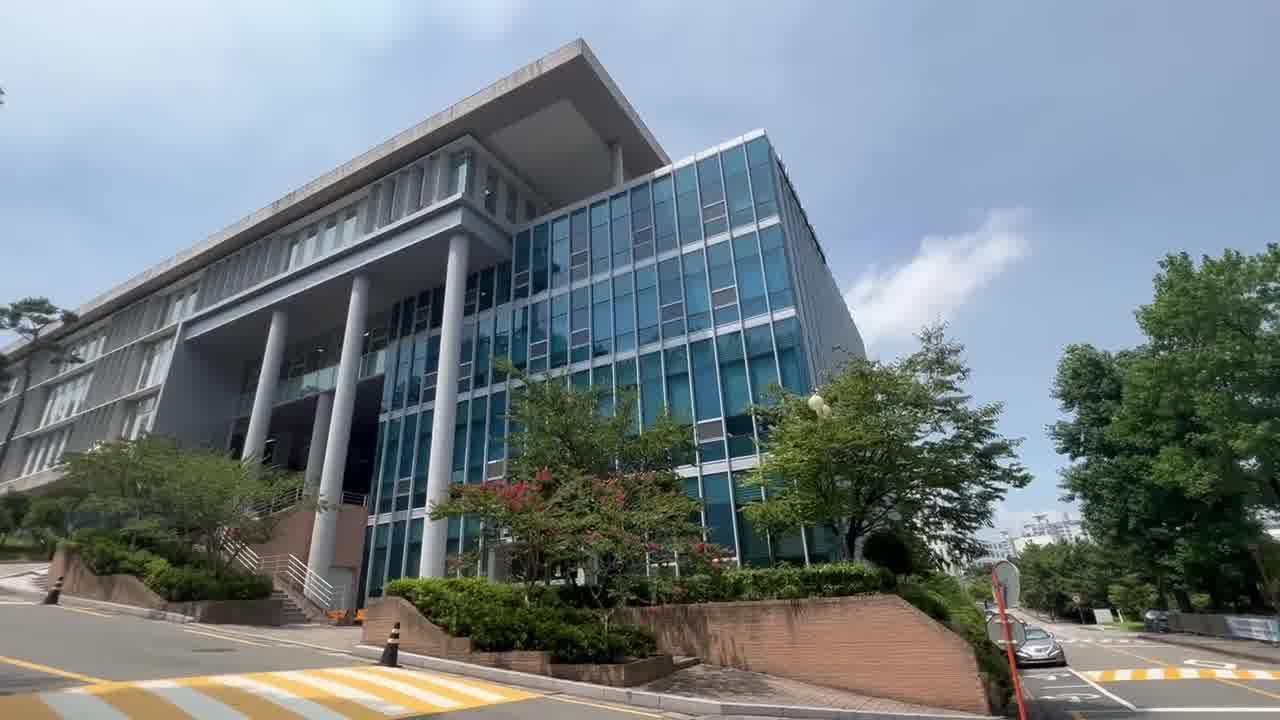building: (40, 31, 864, 474)
